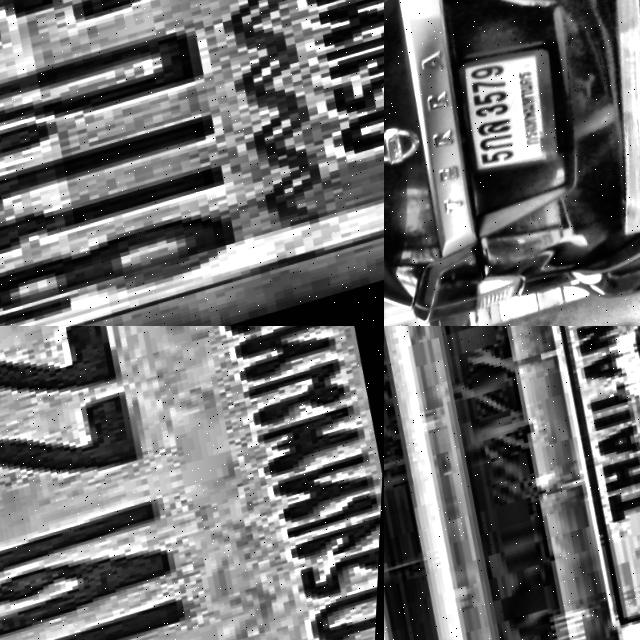license-plate: (0, 0, 384, 326), (0, 326, 384, 640), (508, 326, 640, 640), (443, 39, 573, 187)
